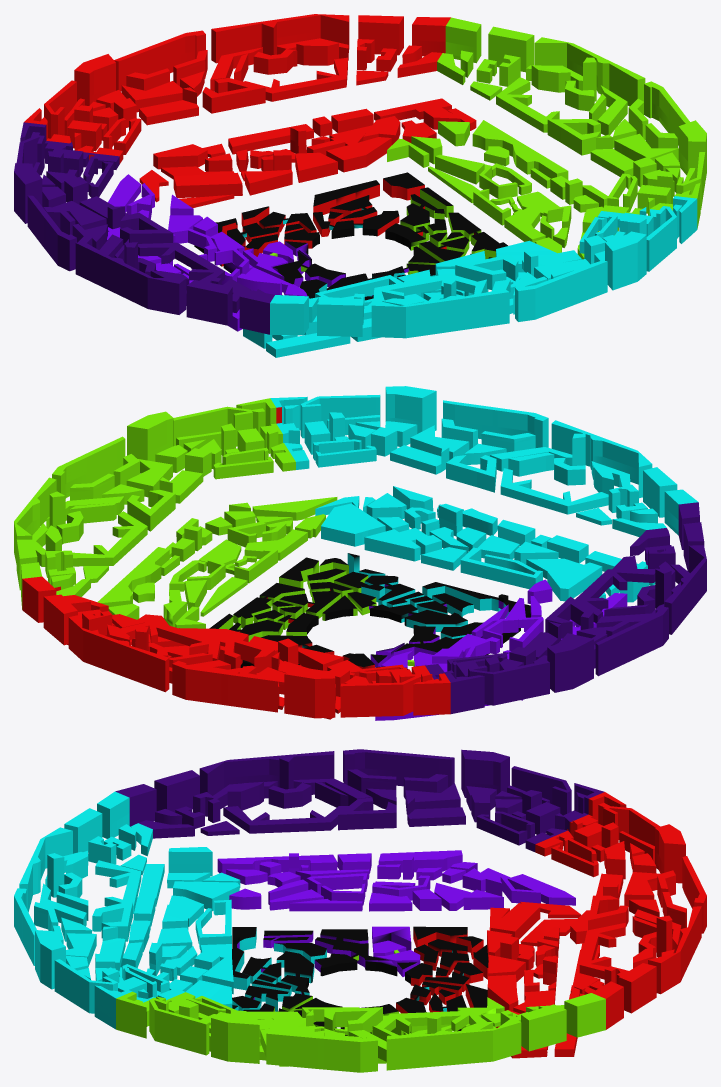
3 renders of one model, top to bottom at view 1: azimuth 30°, elevation 25°; view 2: azimuth 150°, elevation 25°; view 3: azimuth 270°, elevation 25°, orthographic.
Visible parts, largest first — view 1: Buildings, ldv1.1, Bowl001; view 2: Buildings, ldv1.1, Bowl001; view 3: Buildings, ldv1.1, Bowl001.
Part boxes in pixels (x1,y1,x2,y2): Buildings: (14,14,706,338); ldv1.1: (106,98,618,357); Bowl001: (194,172,507,300); Buildings: (14,386,706,718); ldv1.1: (67,486,655,720); Bowl001: (209,553,530,669); Buildings: (14,749,706,1072); ldv1.1: (119,847,599,1066); Bowl001: (232,926,488,1035).
Bounding box in the file's own units: 480 × 80.62 × 480.
